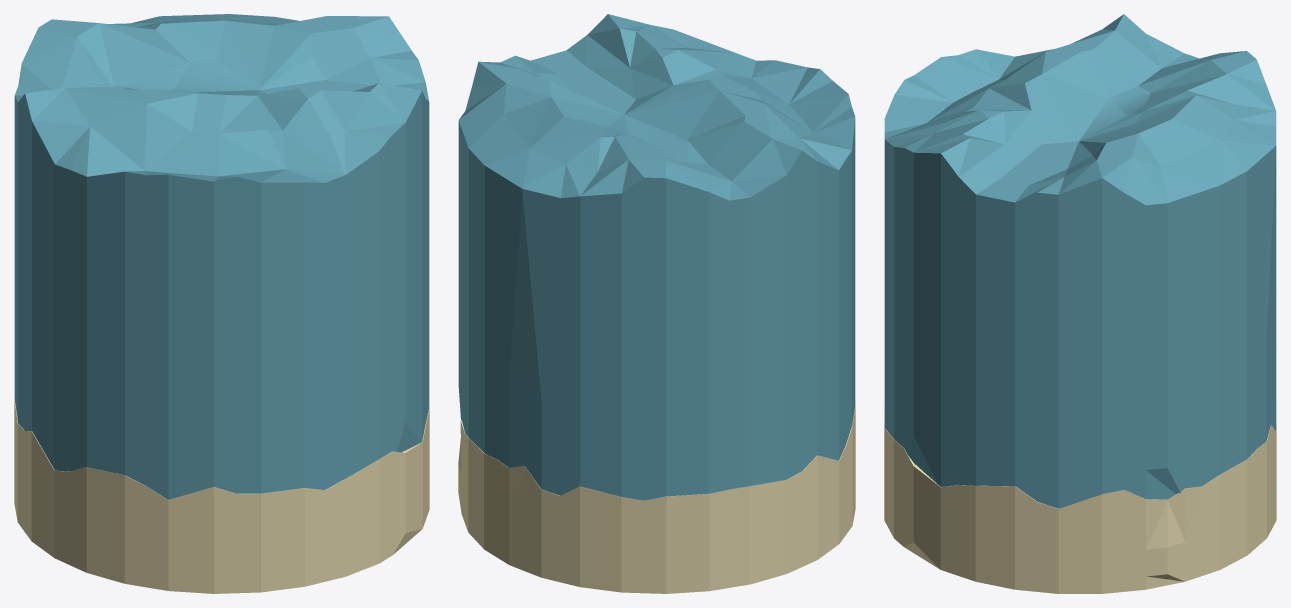
The model's file is bosque.glb.
3 views of the same model, side by side, from view 1: azimuth 30°, elevation 25°; view 2: azimuth 150°, elevation 25°; view 3: azimuth 270°, elevation 25° (orthographic). The views are drawn at different scales.
Visible parts, largest first — view 1: Object_18, Object_7; view 2: Object_18, Object_7; view 3: Object_18, Object_7.
Boxes of the visible parts, x1,y1,x2,y2 form: Object_18: (14, 14, 429, 499); Object_7: (14, 399, 429, 593); Object_18: (458, 14, 855, 500); Object_7: (458, 405, 855, 593); Object_18: (884, 14, 1276, 508); Object_7: (884, 401, 1276, 593).
Size of the model in its own units: 15.6 by 18.38 by 15.59.
